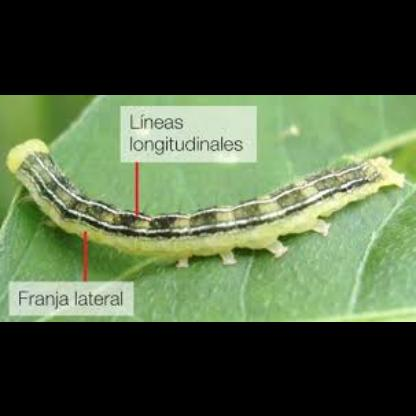oruga: (14, 138, 406, 262)
